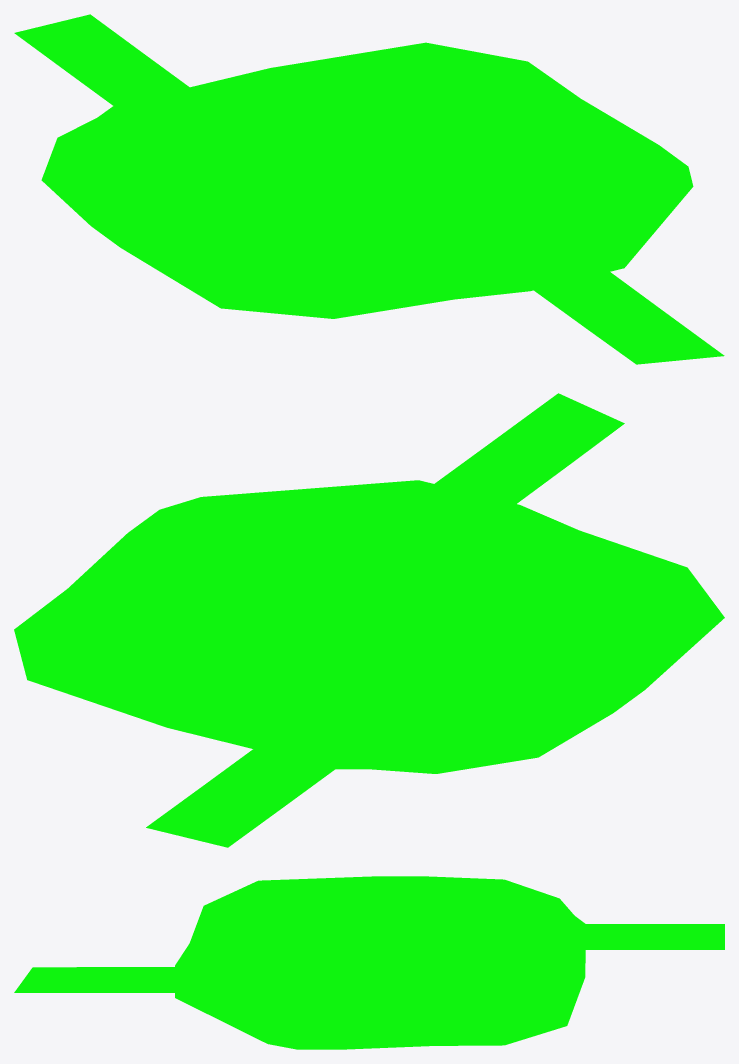
File: s02a_ib1-floor.glb
The picture shows the model from 3 angles, top to bottom: view 1: azimuth 30°, elevation 25°; view 2: azimuth 150°, elevation 25°; view 3: azimuth 270°, elevation 25°; orthographic projection. The views are drawn at different scales.
Visible parts, largest first — view 1: collision_floor-colonly; view 2: collision_floor-colonly; view 3: collision_floor-colonly.
Part boxes in pixels (left/top/right/bottom): collision_floor-colonly: left=14, top=14, right=724, bottom=364; collision_floor-colonly: left=14, top=393, right=724, bottom=847; collision_floor-colonly: left=14, top=876, right=724, bottom=1049.
Size of the model in its own units: 40 by 0.1602 by 69.22.
